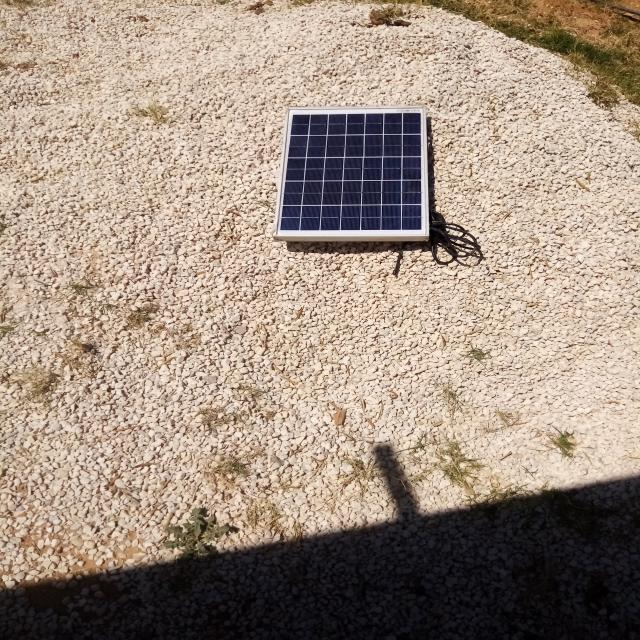no faulty: (274, 106, 428, 235)
